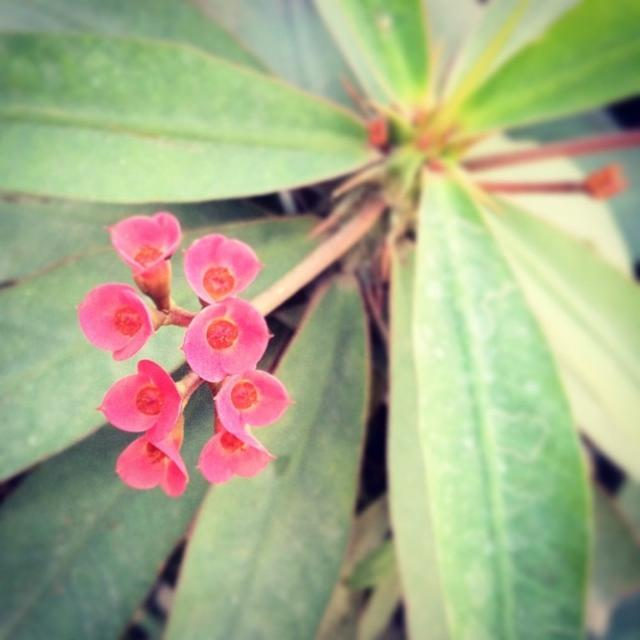Flower: (182, 298, 280, 384), (99, 356, 185, 436), (72, 284, 156, 361), (110, 206, 182, 292), (211, 372, 291, 438), (175, 236, 258, 298), (119, 428, 191, 494), (196, 418, 264, 482)
